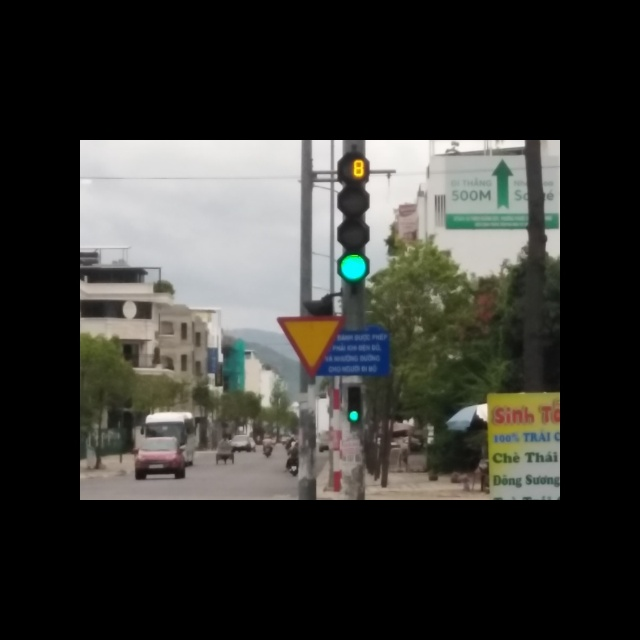Giao nhau với đường ưu tiên: (278, 316, 345, 379)
Đèn xanh: (340, 251, 368, 283)
